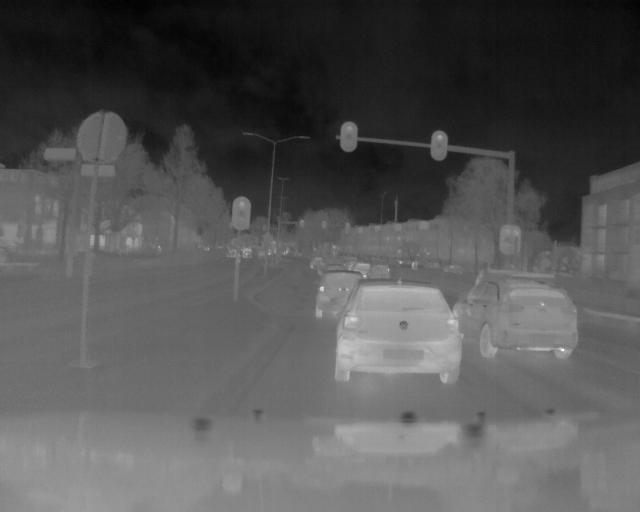car: (333, 279, 462, 387), (466, 275, 580, 360)
